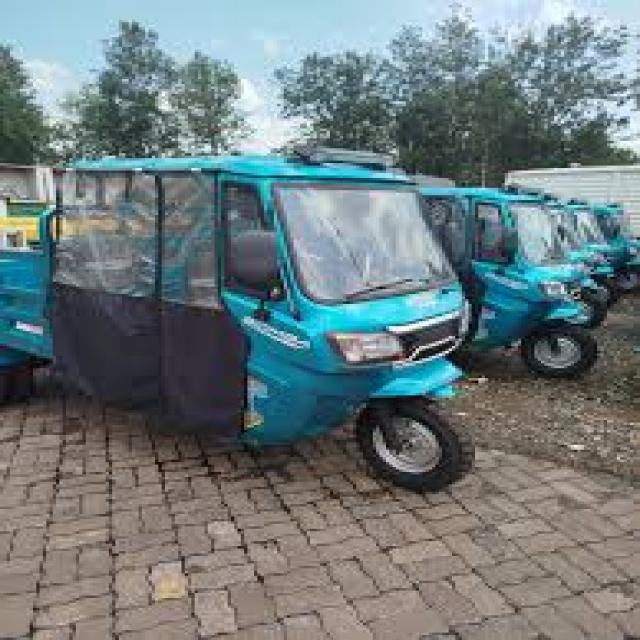tuktuk: (4, 109, 506, 532)
